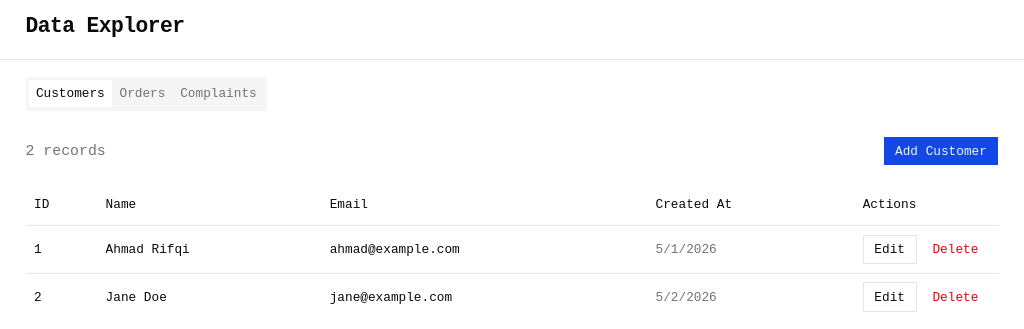
Test: DataPage tab switching › switches to Complaints tab and shows complaint data
Click the tab "Complaints" at (218, 94), box [173, 80, 264, 107]
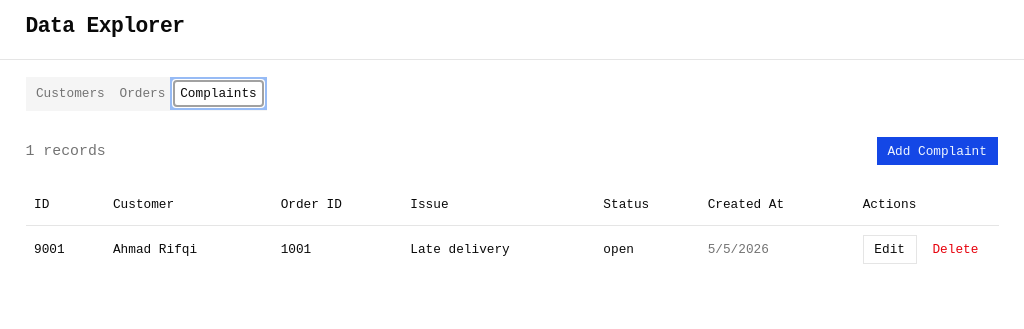
Expected: the text "Late delivery" is shown, [402, 226, 595, 273]
Expected: the text "open" is shown, [595, 226, 699, 273]
